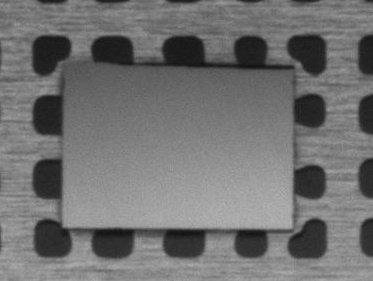DIE_BROKEN: (122, 61, 297, 71)
